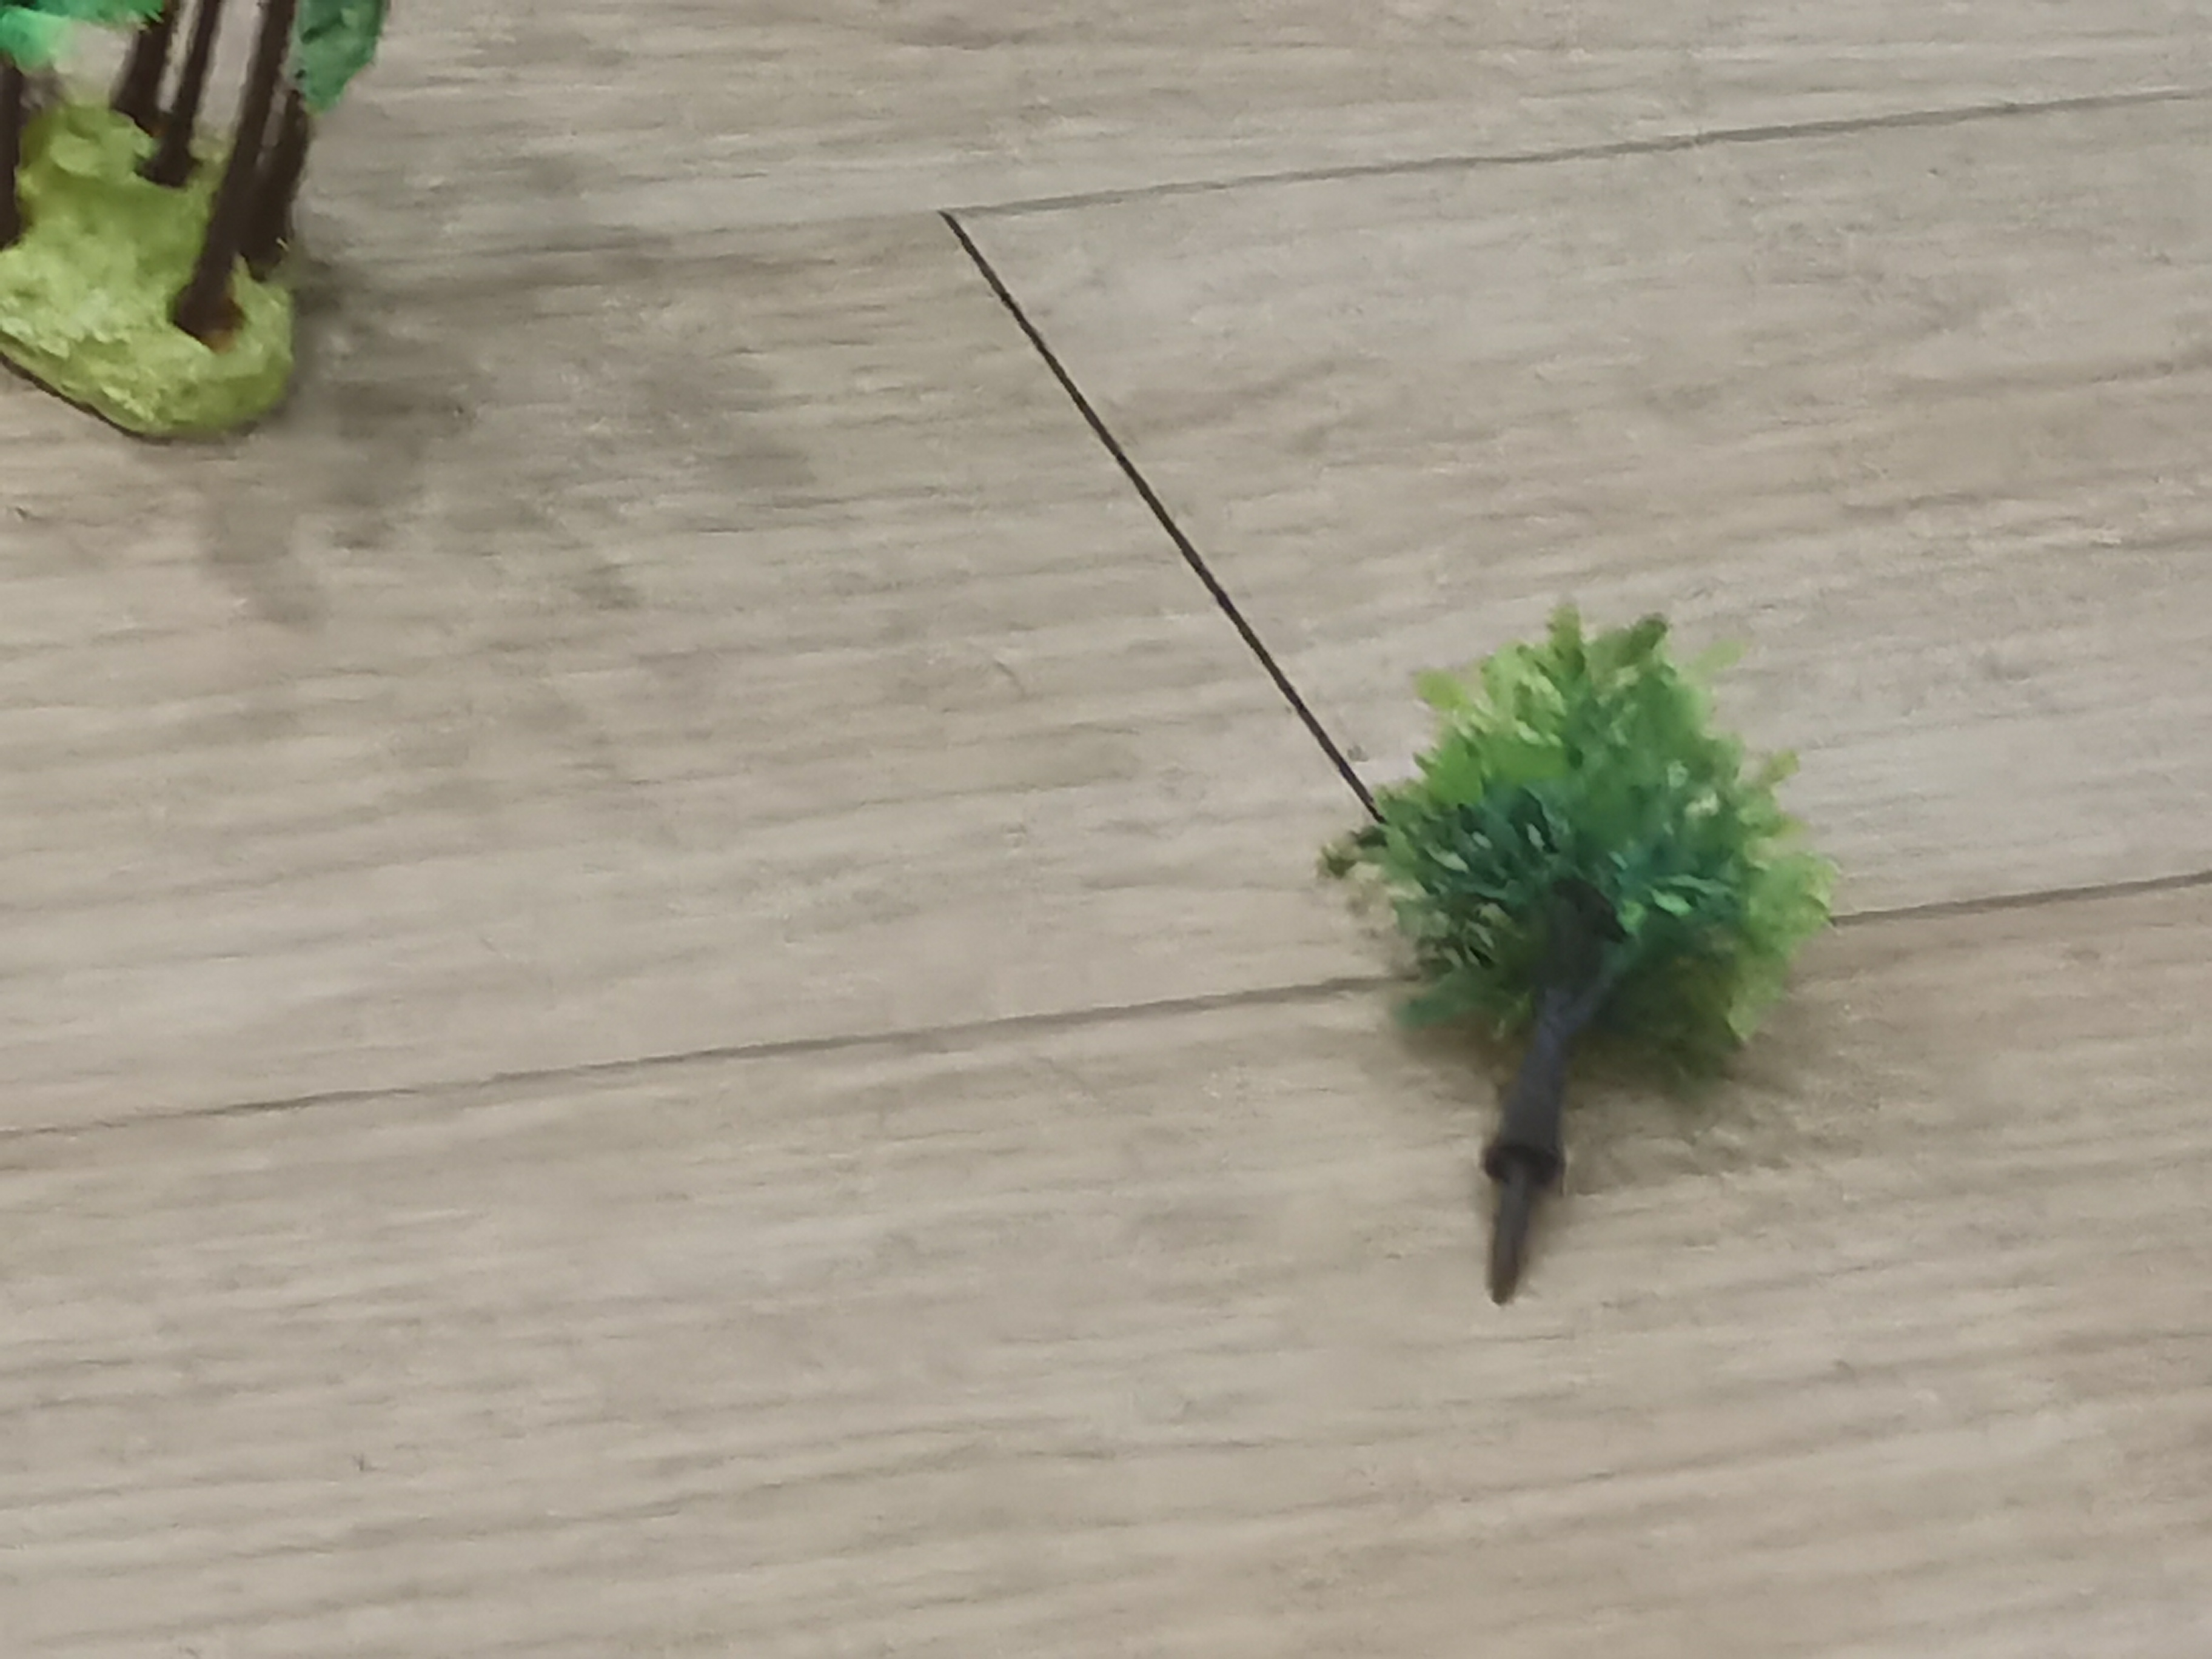corn: (0, 0, 425, 434)
